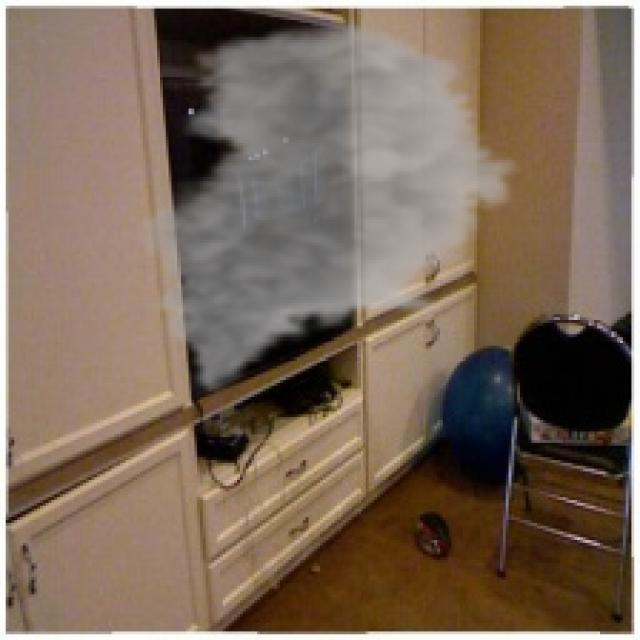smoke: (128, 17, 528, 397)
